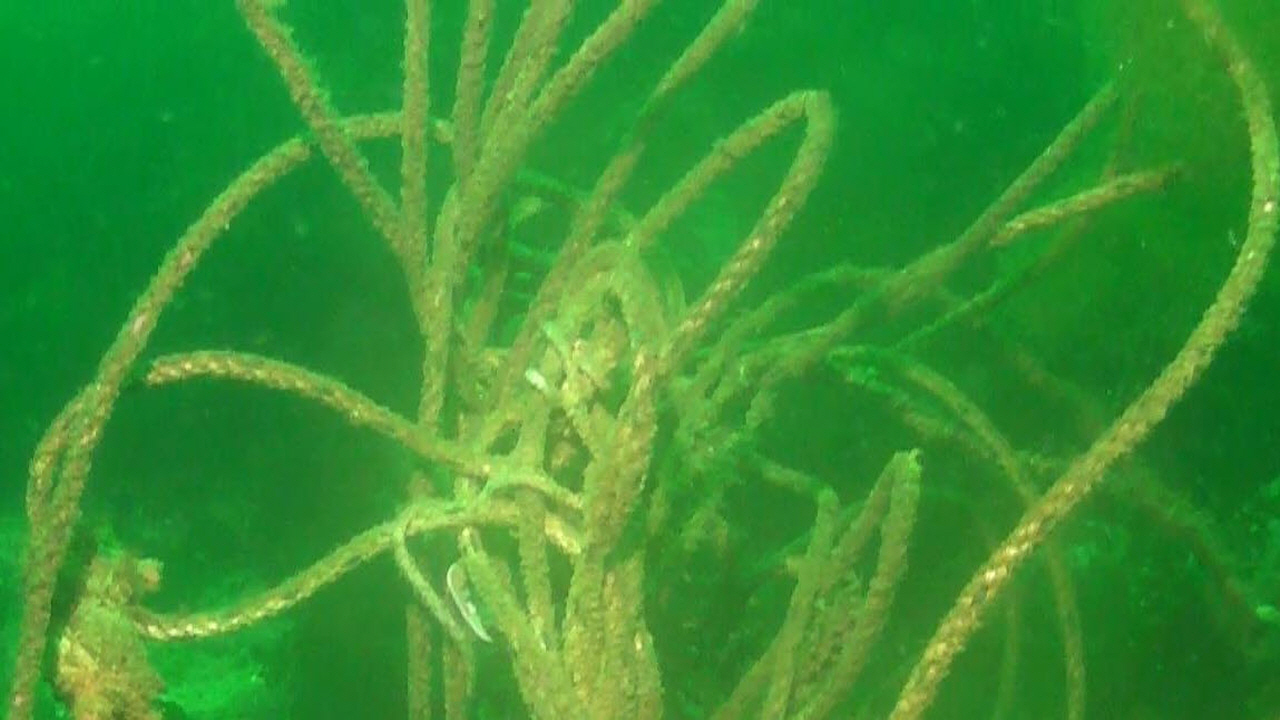bundle of ropes: (5, 0, 1280, 720)
